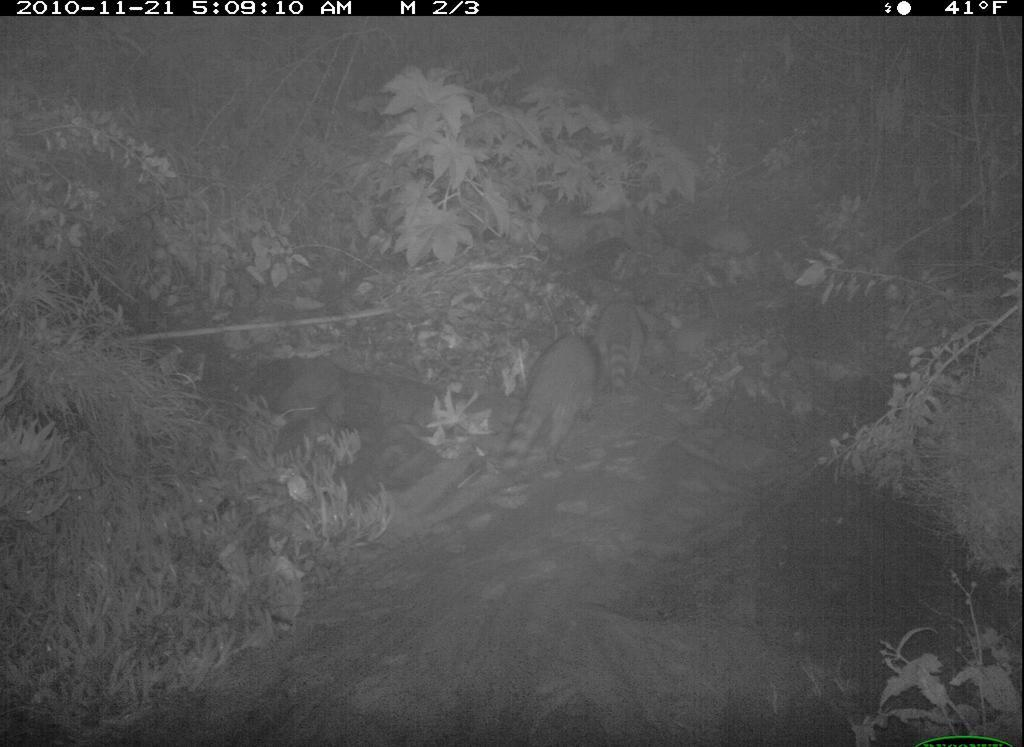raccoon: (497, 332, 609, 482), (583, 282, 666, 402)
